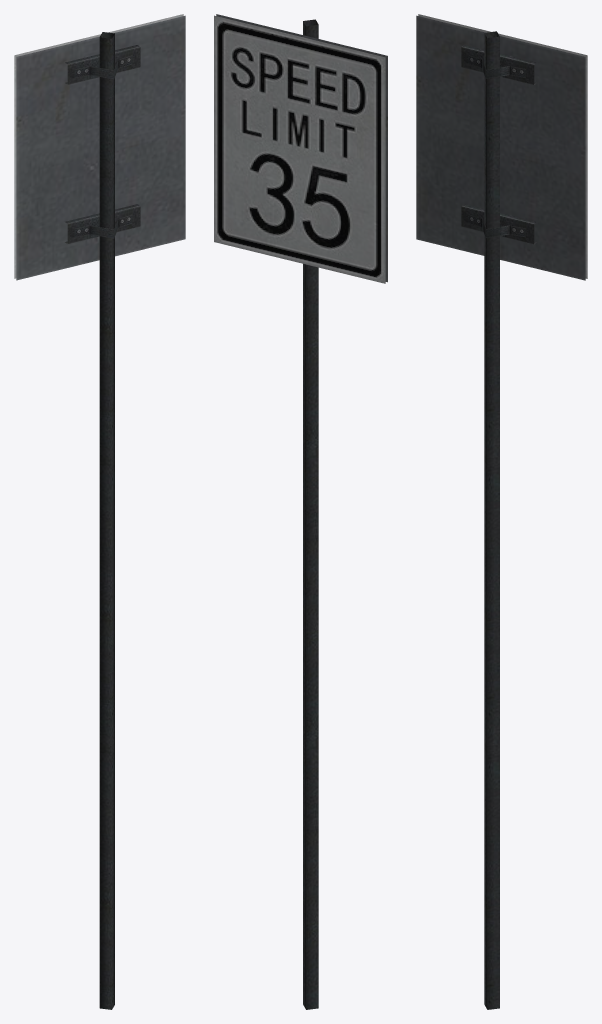
Rendered from Speed_Limit_-_35_mph.glb.
3 renders of one model, left to right at view 1: azimuth 30°, elevation 25°; view 2: azimuth 150°, elevation 25°; view 3: azimuth 330°, elevation 25°, orthographic.
Parts seen in each view (by area): view 1: Speed_Limit_35mph__LOD1; view 2: Speed_Limit_35mph__LOD1; view 3: Speed_Limit_35mph__LOD1.
Part boxes in pixels (x1,y1,x2,y2): Speed_Limit_35mph__LOD1: (14, 14, 185, 1009); Speed_Limit_35mph__LOD1: (214, 14, 387, 1009); Speed_Limit_35mph__LOD1: (416, 14, 587, 1009).
Bounding box in the file's own units: 0.546 × 2.99 × 0.0909.
1 material, 1 textured.
